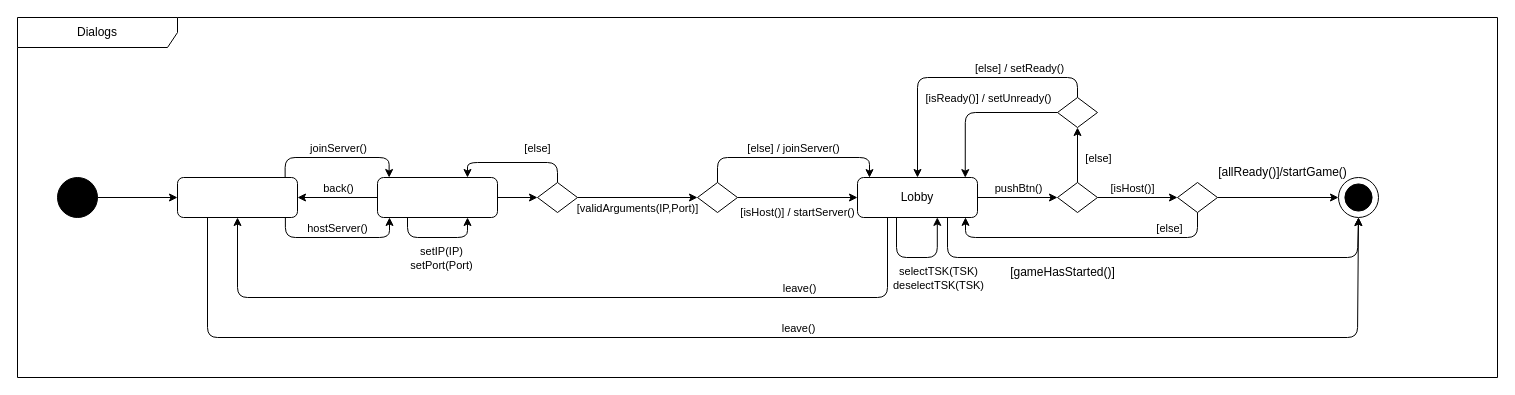
The diagram is 1515 pixels wide and 395 high, and some of its shapes have lost their labels. Each missing label, with the box of its shape:
NetworkDialog: (376, 176, 498, 218)
StartDialog: (176, 176, 298, 218)
